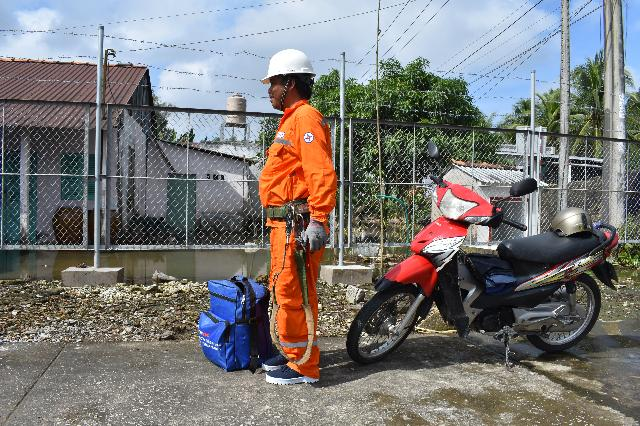gloves: (305, 217, 326, 255)
harness: (255, 190, 331, 227)
helmet: (254, 43, 317, 85)
shoes: (254, 348, 311, 373), (262, 368, 323, 388)
